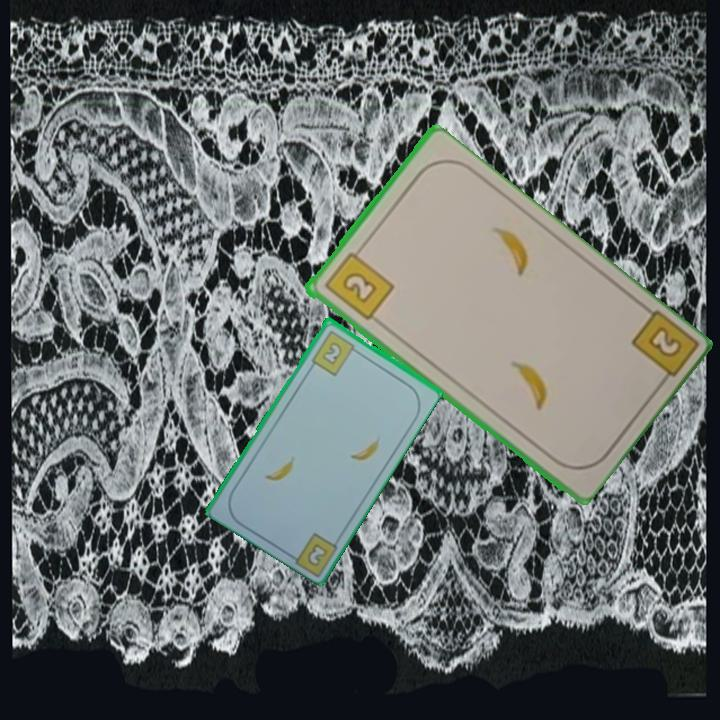2b: (626, 306, 698, 392), (320, 243, 396, 324), (308, 326, 361, 378), (303, 540, 330, 569)
